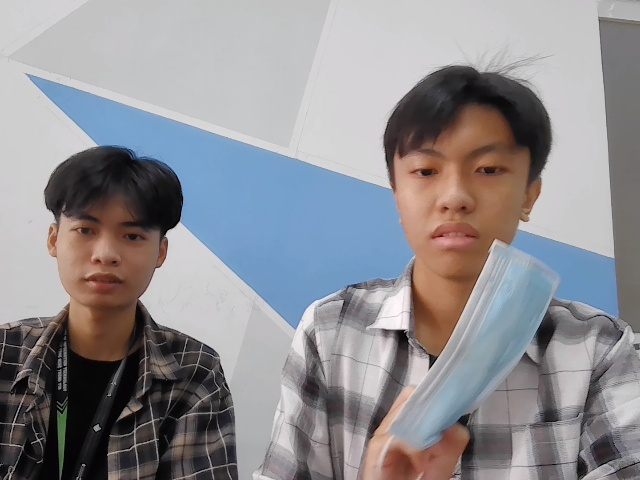human: (387, 63, 544, 278), (45, 141, 195, 318)
mask: (382, 245, 563, 456)
